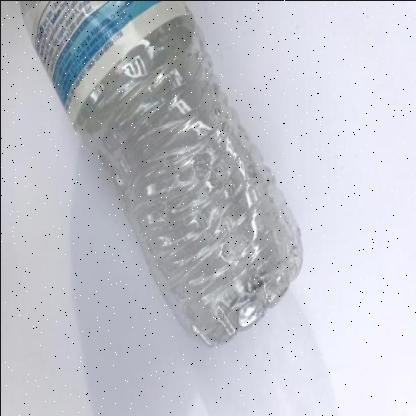Plastic Bottle: (19, 0, 301, 345)
